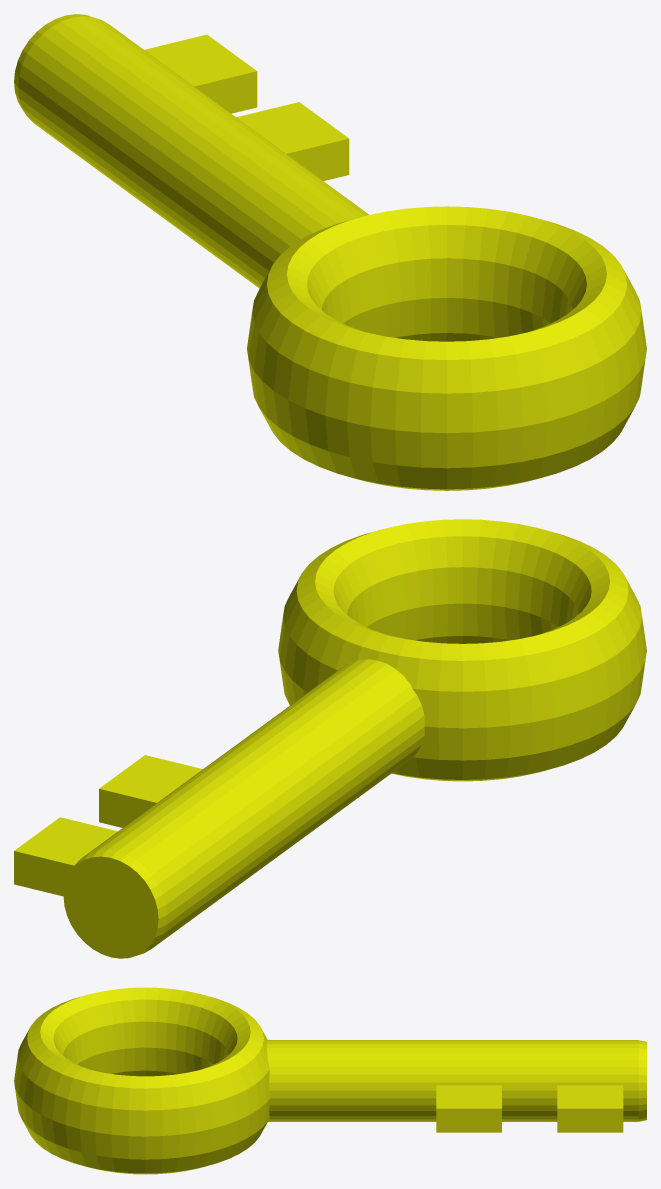
The model's file is Llave.glb.
The picture shows the model from 3 angles, top to bottom: view 1: azimuth 30°, elevation 25°; view 2: azimuth 150°, elevation 25°; view 3: azimuth 270°, elevation 25°; orthographic projection. The views are drawn at different scales.
Visible parts, largest first — view 1: Cubo.001; view 2: Cubo.001; view 3: Cubo.001.
Part boxes in pixels (box(x1,y1,x2,y2)): Cubo.001: box(14, 14, 646, 490); Cubo.001: box(14, 519, 646, 958); Cubo.001: box(14, 987, 646, 1174).
Bounding box in the file's own units: 2.5 × 1.03 × 6.02.
